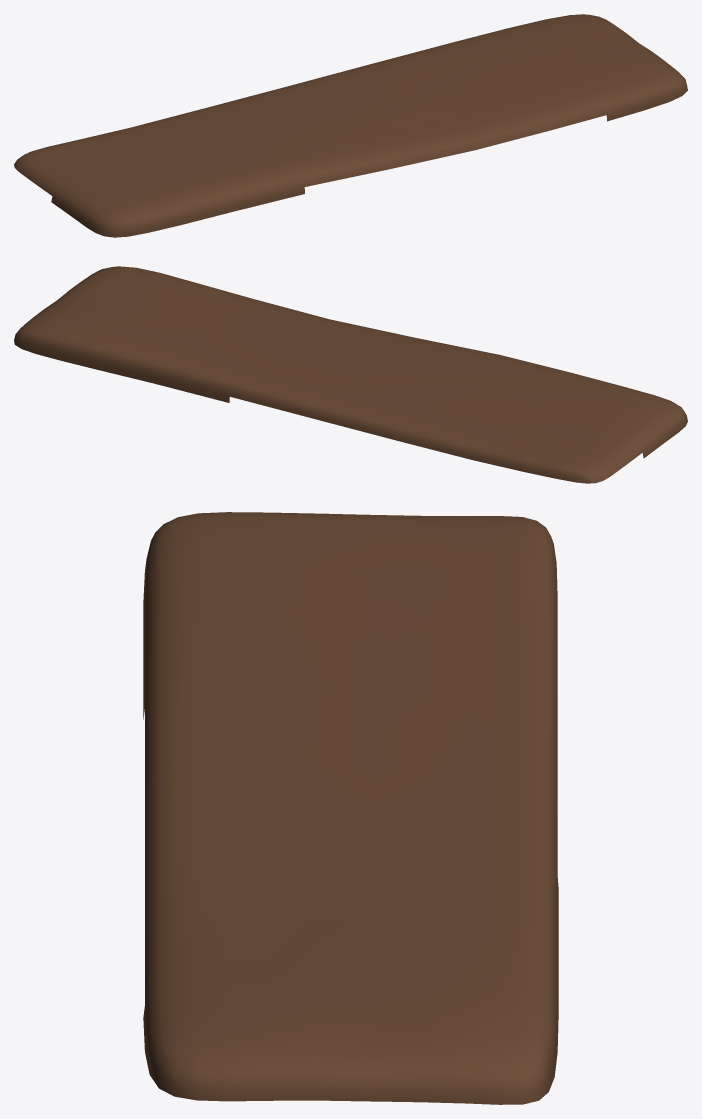
Rendered from ground_dirt_01.fbx.
3 renders of one model, top to bottom at view 1: azimuth 30°, elevation 25°; view 2: azimuth 150°, elevation 25°; view 3: azimuth 270°, elevation 25°, orthographic. The views are drawn at different scales.
Visible parts, largest first — view 1: ground_dirt1:pCube1; view 2: ground_dirt1:pCube1; view 3: ground_dirt1:pCube1.
Boxes of the visible parts, left/top/right/bottom form: ground_dirt1:pCube1: left=14, top=14, right=687, bottom=237; ground_dirt1:pCube1: left=14, top=266, right=687, bottom=483; ground_dirt1:pCube1: left=143, top=512, right=558, bottom=1104.
Size of the model in its own units: 5.21 by 0.2085 by 1.58.
